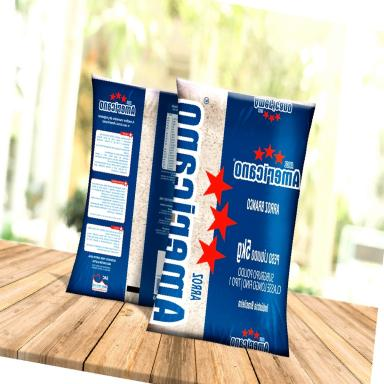rice package: (149, 79, 314, 356), (67, 76, 177, 305)
